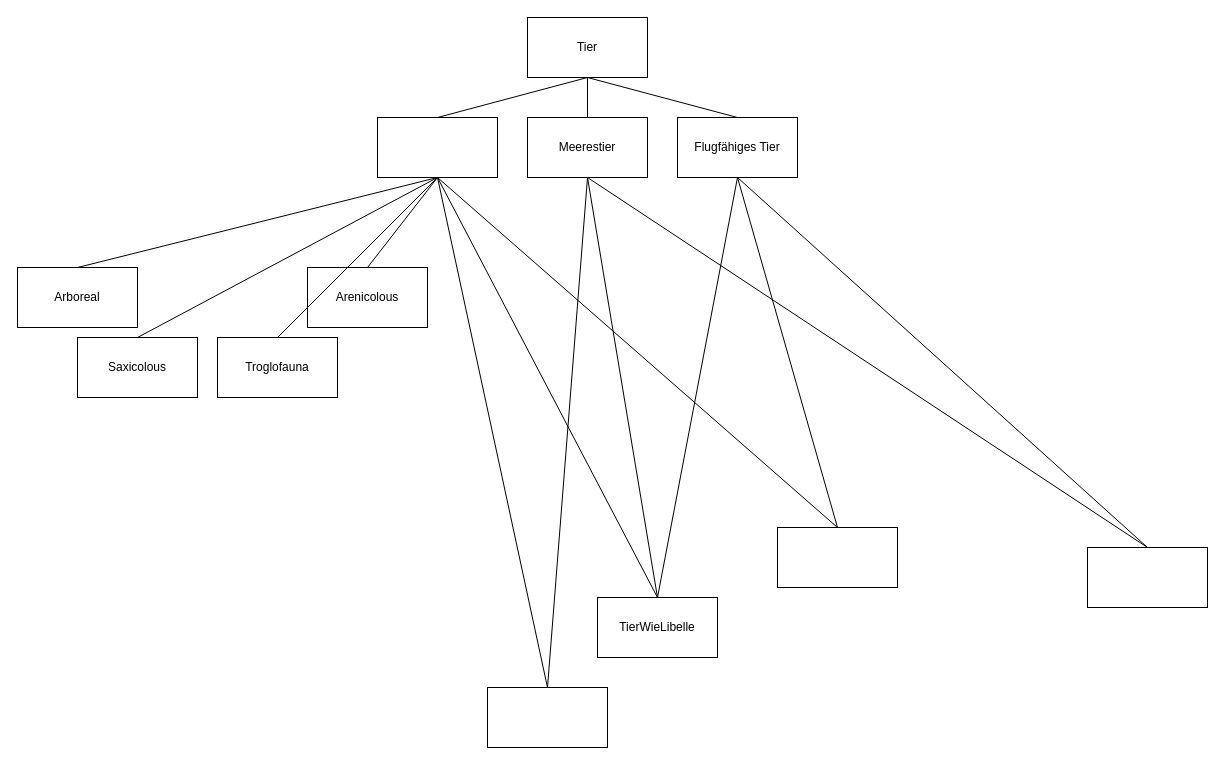
The diagram is 1225 pixels wide and 765 high, and some of its shapes have lost their labels. The shapes that lost their labels are listed below. From the top down, each one's centre as x and y in pixels, then its label:
At pixel 437 147: "Landtier".
At pixel 837 557: "flugfähiges Landtier".
At pixel 1147 577: "fantasieFisch".
At pixel 547 717: "Amphibie".
